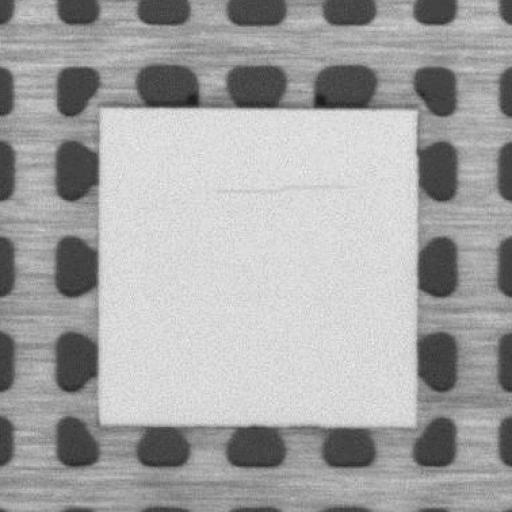DIE_CRACK: (215, 180, 362, 193)
